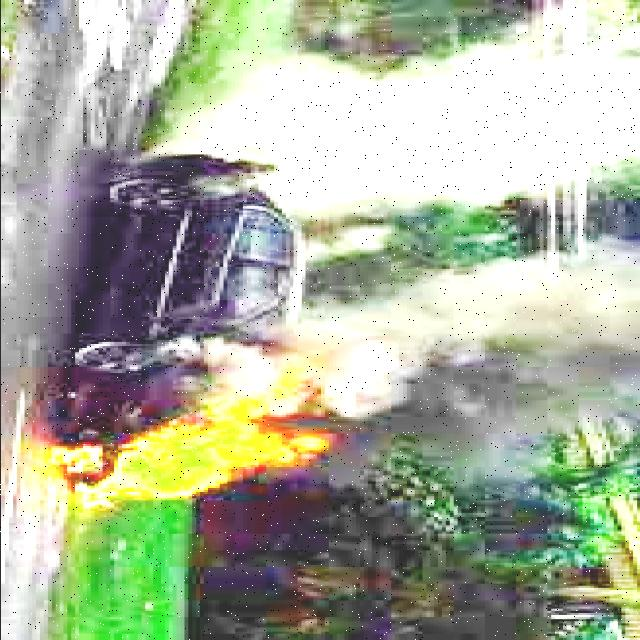api: (60, 349, 372, 520)
